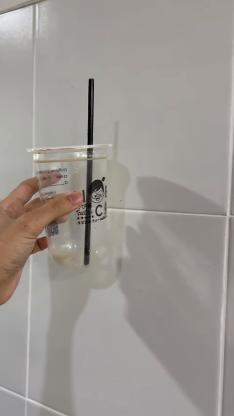Plastic Cup: (27, 140, 115, 270)
